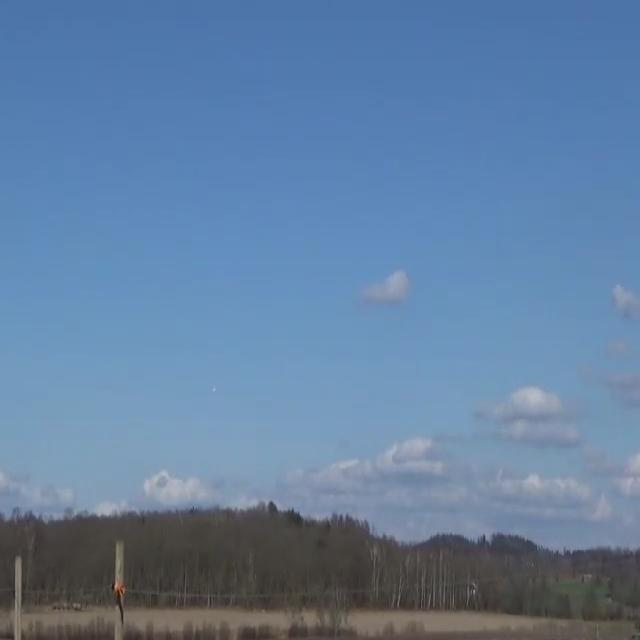Drone: (204, 375, 224, 404)
